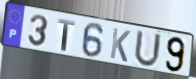3: (26, 14, 49, 48)
6: (81, 22, 105, 60)
9: (163, 36, 188, 74)
K: (108, 27, 132, 64)
T: (57, 18, 76, 53)
U: (132, 28, 163, 69)
